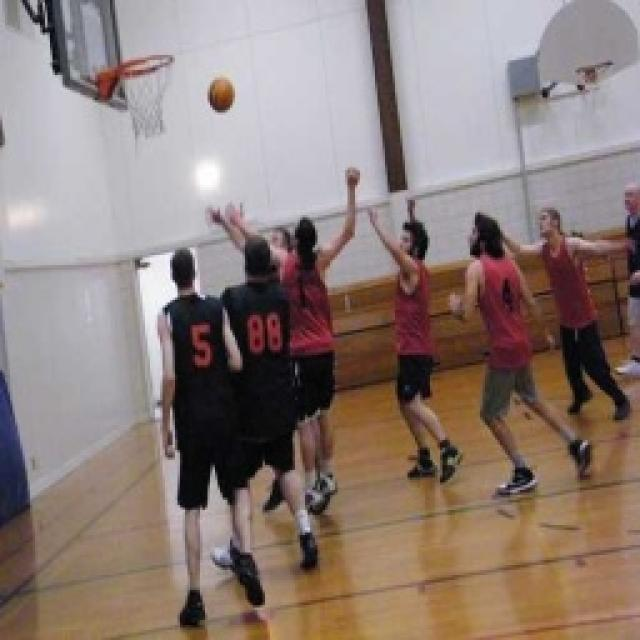rim: (203, 67, 239, 116)
